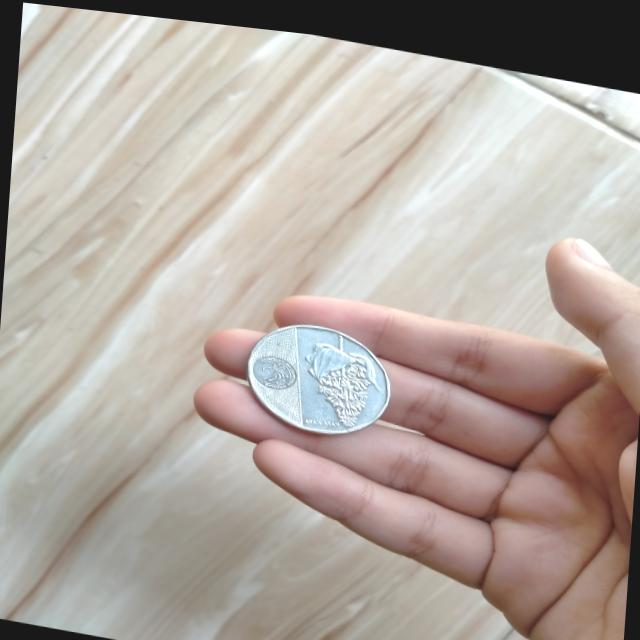10_New_Back: (306, 321, 386, 433)
